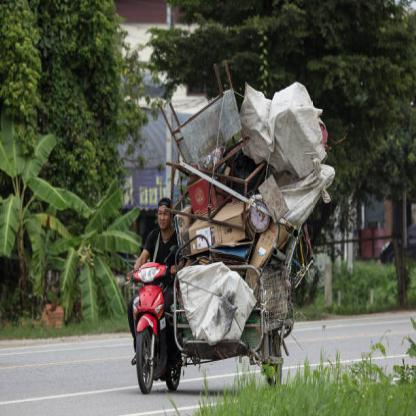Motorcycle: (120, 248, 171, 399)
